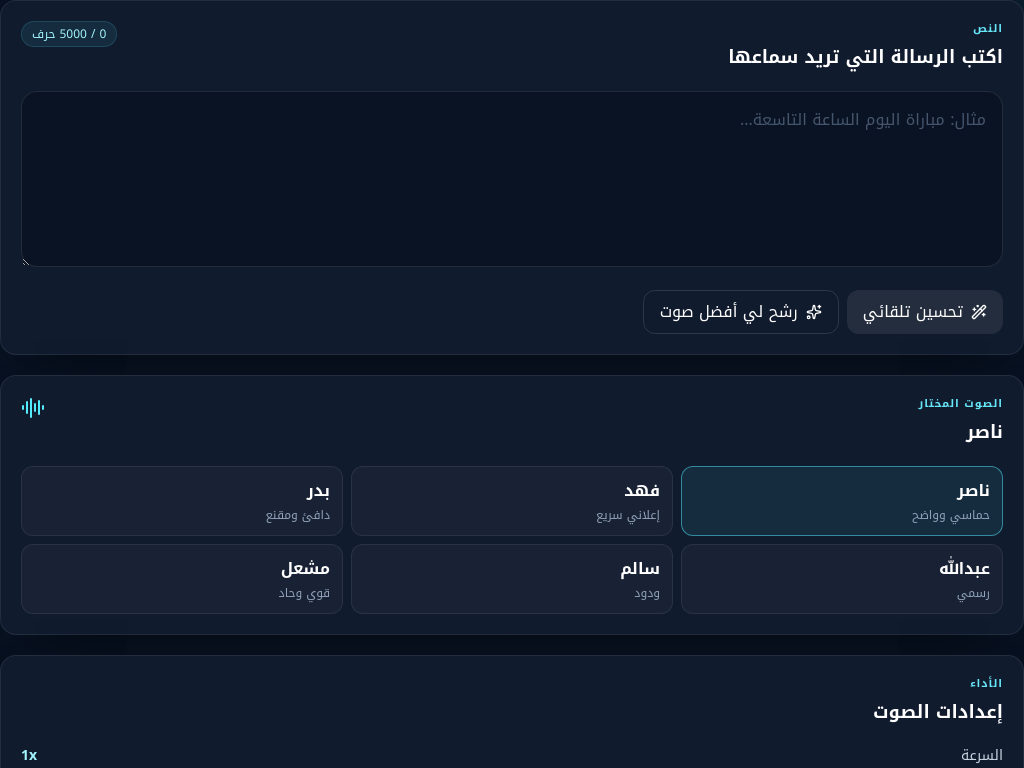
Test: StudioWorkspace › counts Arabic characters as the user writes
Step 1. Type "مباراة اليوم" into the text box named "النص العربي" → (512, 179), box [21,91,1003,267]
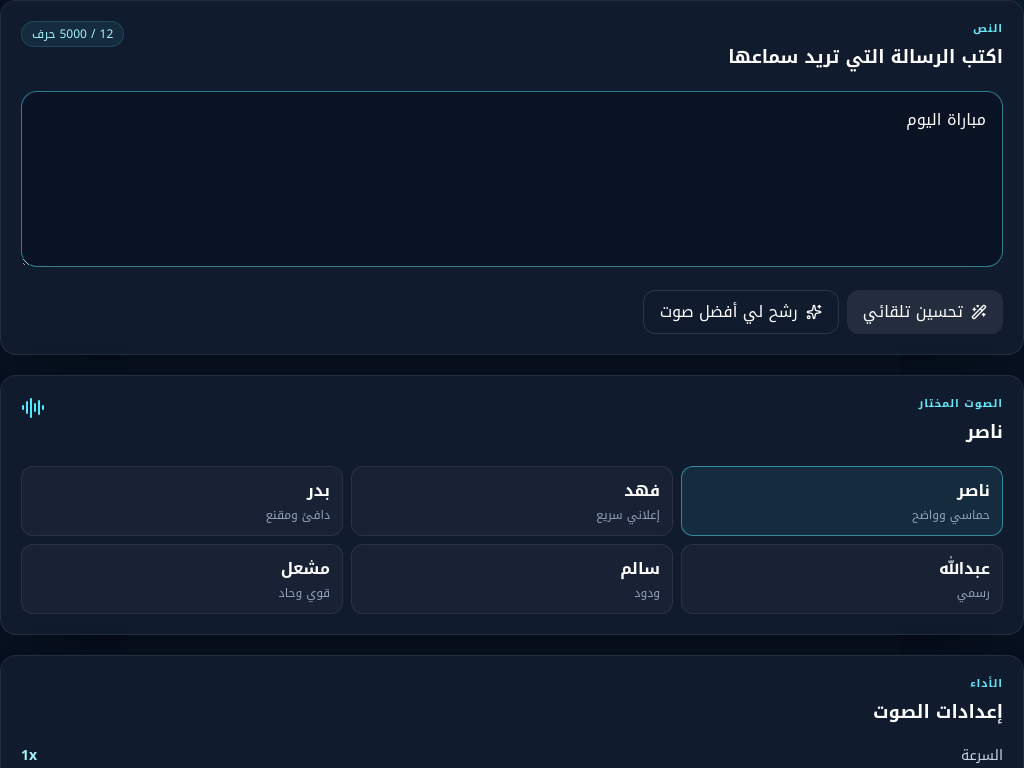
Check: the text "12 / 5000 حرف" is shown, box [21,21,124,47]
